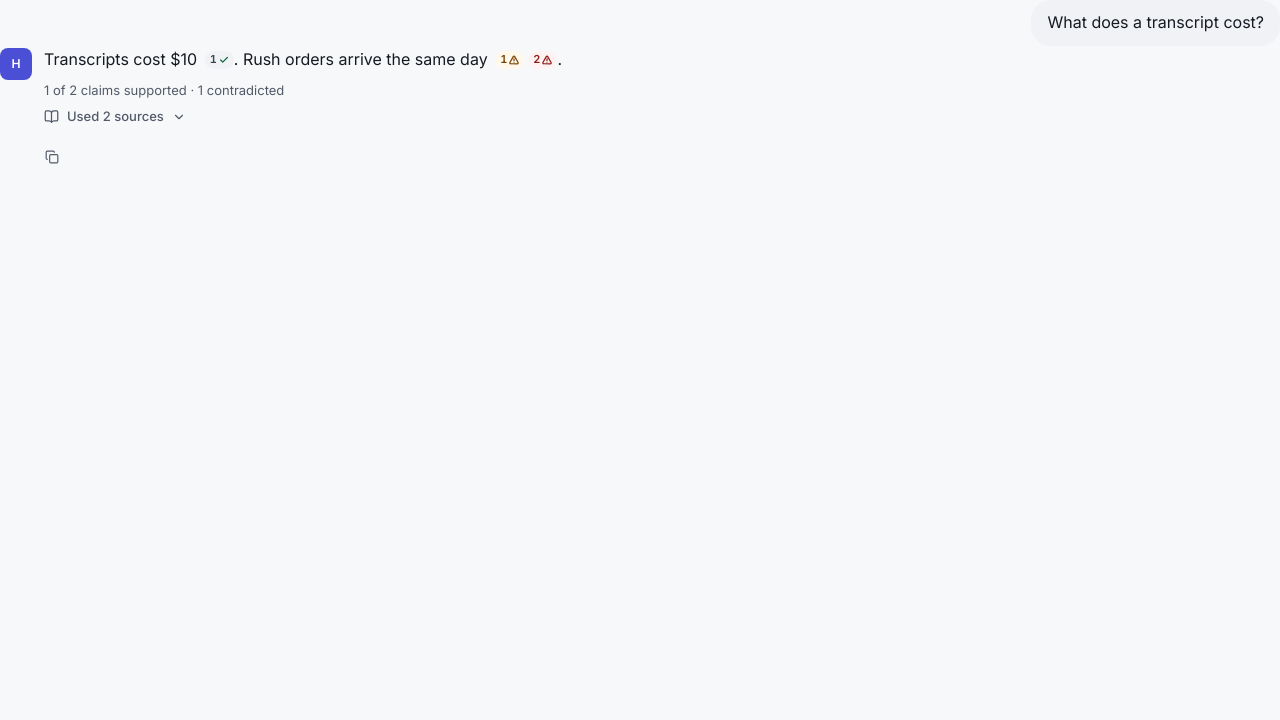
Test case: source viewer › lets editors open the whole document, a page at a time around the cited passage
Click the button "Used 2 sources": point(115, 117) [36,101,194,133]
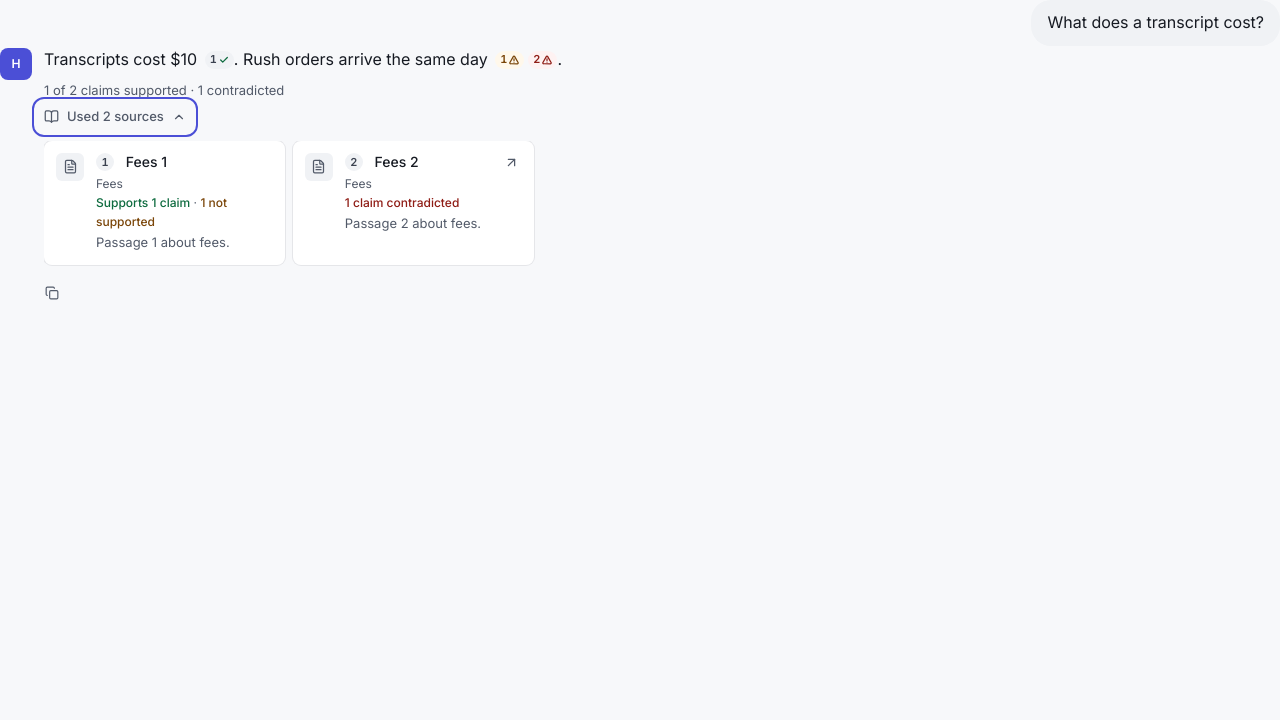
Click the button named "Show source 1: Fees 1": point(164, 203) [44,141,285,265]
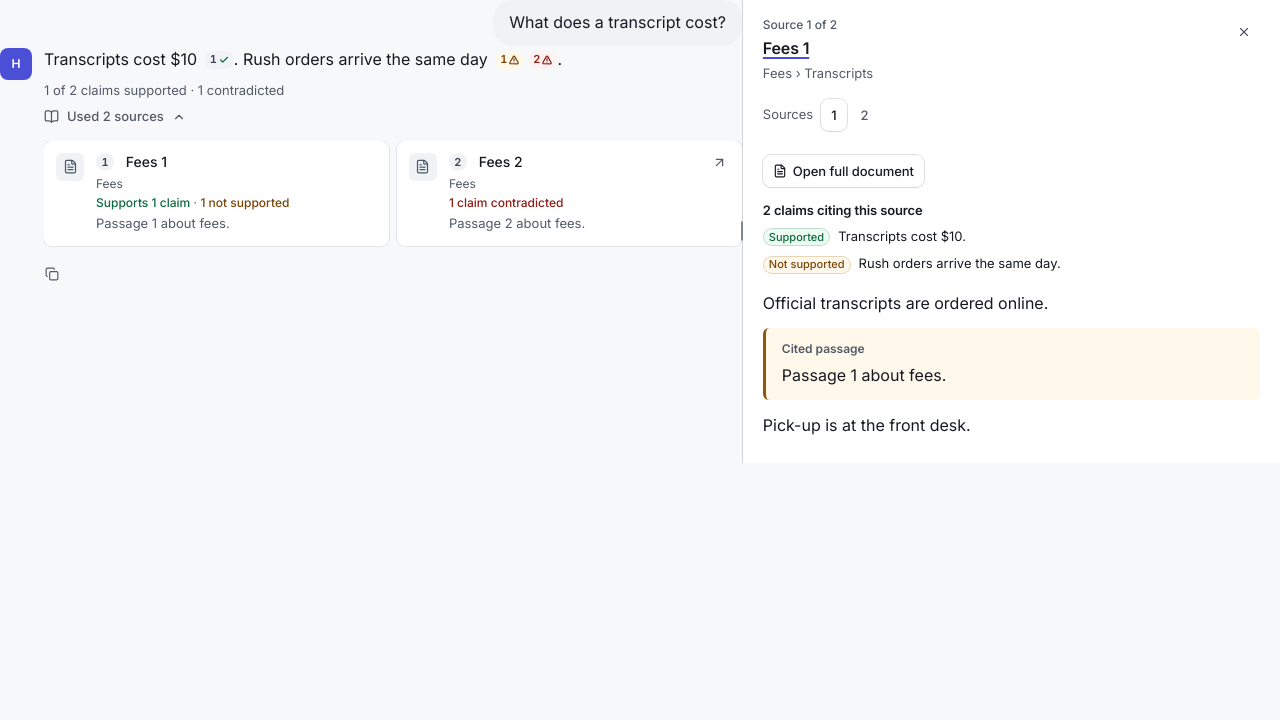
Click the button "Open full document": point(843, 171) [763,155,924,187]
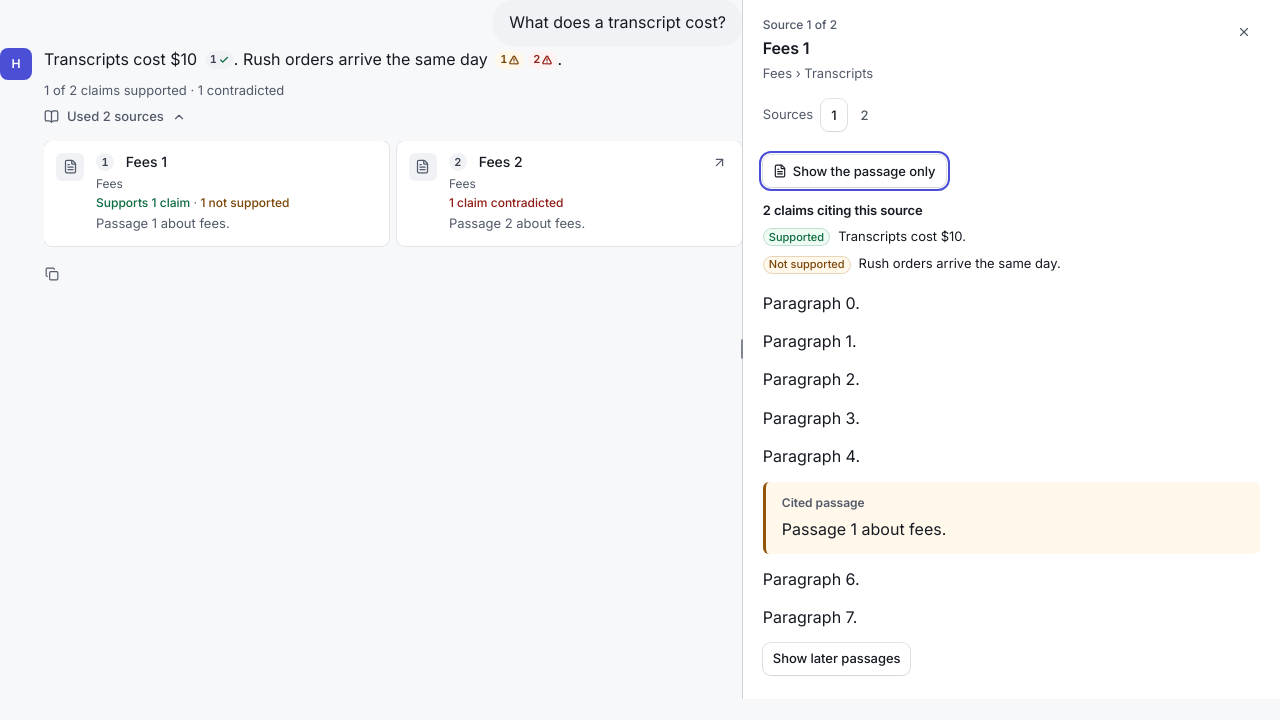
Expected: the element with test id "cited-passage" shows "Passage 1 about fees.", [782,519,946,539]
Expected: the button named "Open full document" reads "Show the passage only", [763,155,946,187]
Expected: the text "Paragraph 6." is shown, [763,569,860,589]
Click the button "Show later passages": point(837, 659) [763,643,910,675]
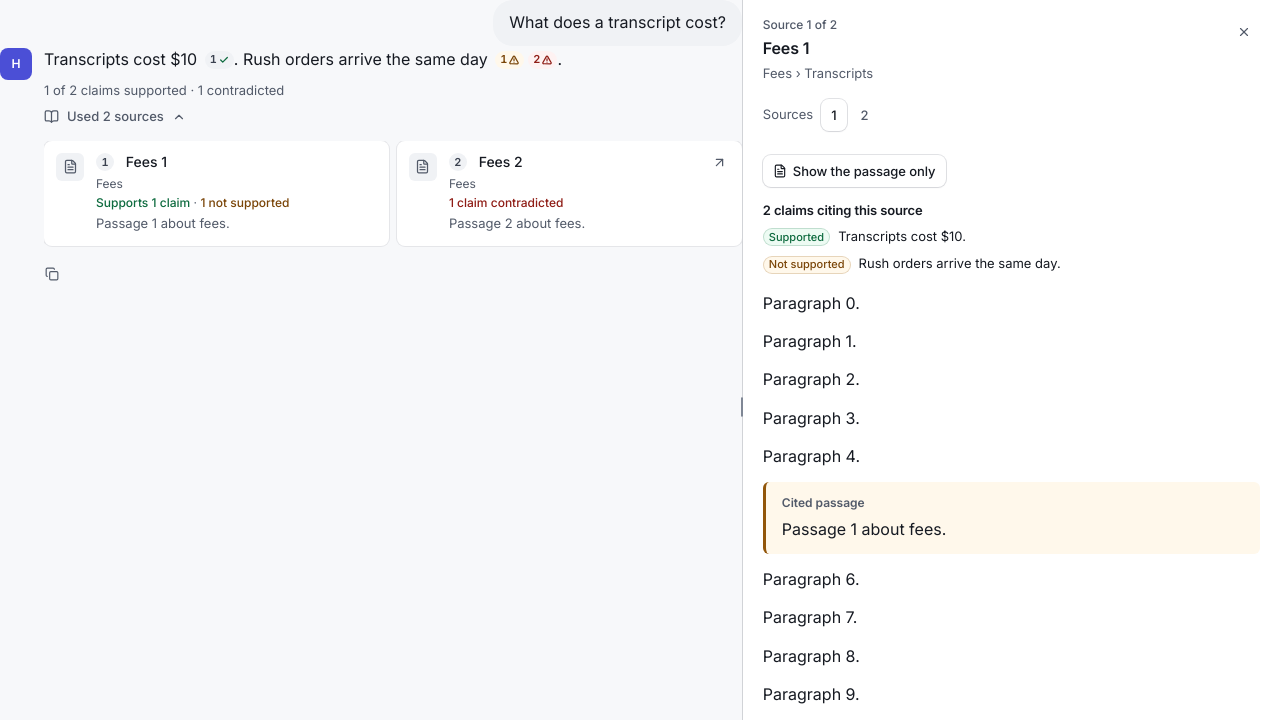
Expected: the text "Paragraph 9." is shown, [763,684,860,704]
Click the button "Show the passage only": point(854, 171) [763,155,946,187]
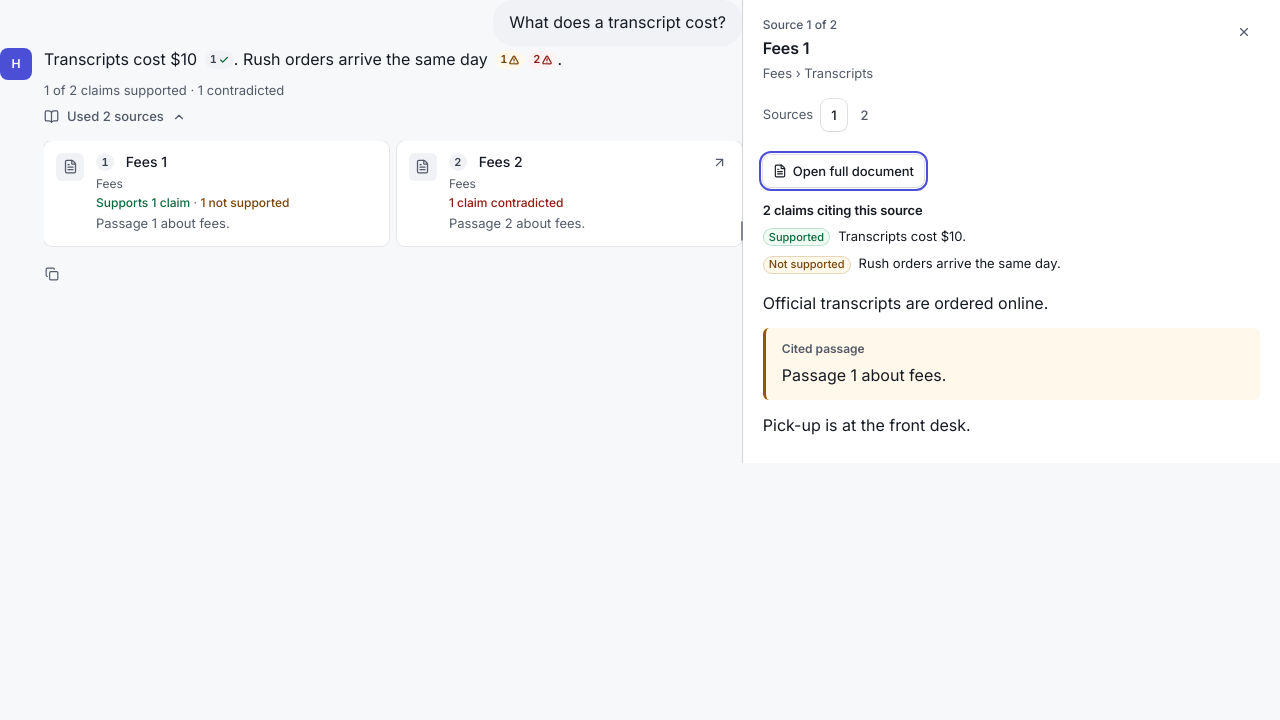
Expected: the text "Paragraph 9." is gone
